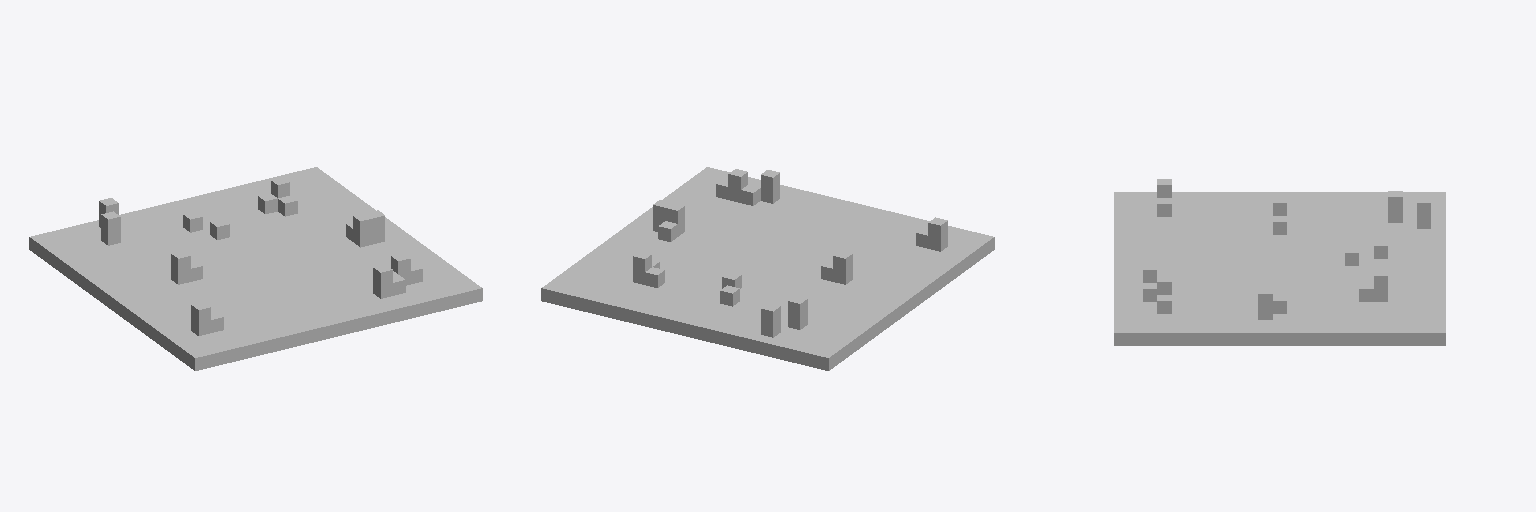
Rendered from Cave Tile 5.obj.
The picture shows the model from 3 angles: view 1: azimuth 30°, elevation 25°; view 2: azimuth 150°, elevation 25°; view 3: azimuth 270°, elevation 25°; orthographic projection.
Parts seen in each view (by area): view 1: object 1; view 2: object 1; view 3: object 1.
Boxes of the visible parts, box(x1,y1,x2,y2) form: object 1: box(29, 167, 482, 370); object 1: box(541, 167, 994, 370); object 1: box(1114, 179, 1445, 345).
Size of the model in its own units: 2.3 by 0.3 by 2.3.